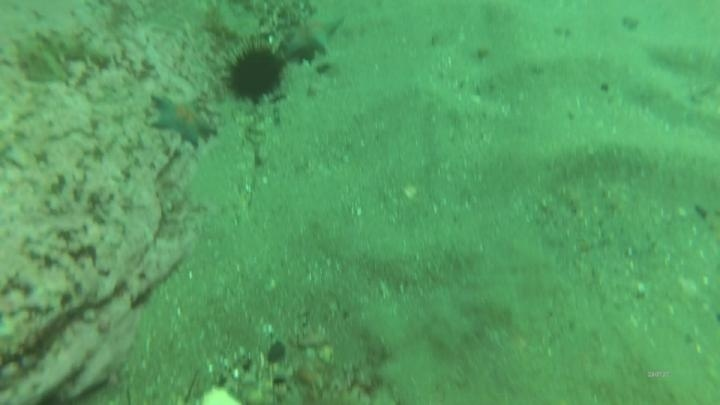echinus: (220, 37, 290, 107)
holothurian: (8, 20, 113, 84)
starfish: (146, 90, 220, 151), (278, 8, 347, 63)
